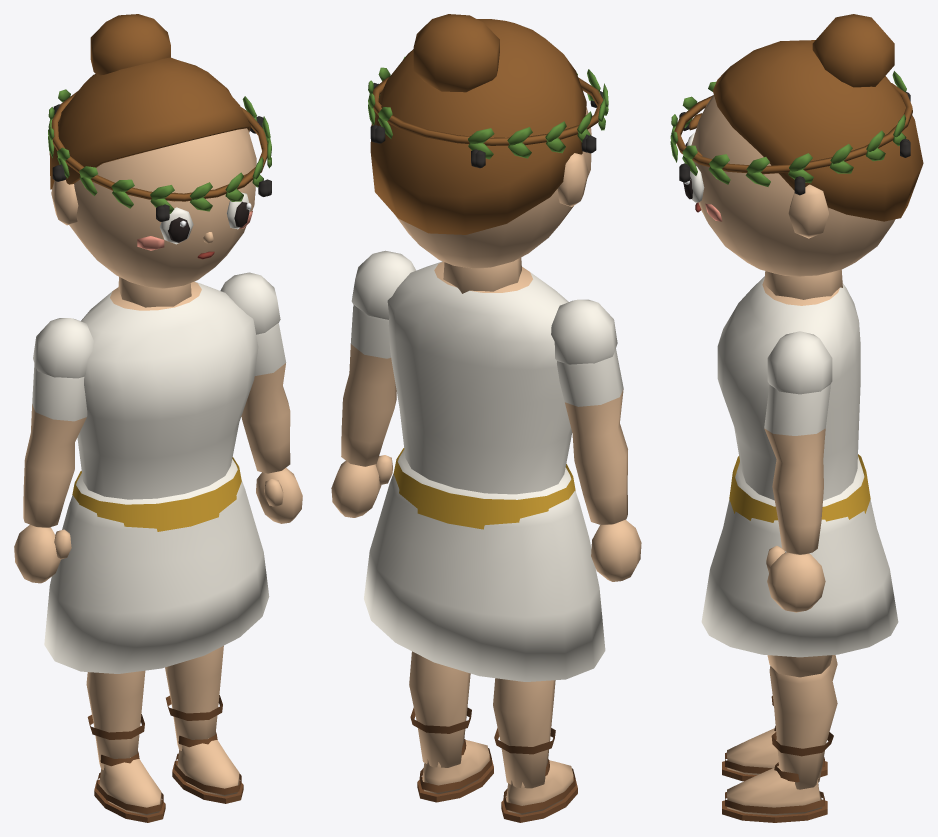
File: olympionikin.glb
3 renders of one model, left to right at view 1: azimuth 30°, elevation 25°; view 2: azimuth 150°, elevation 25°; view 3: azimuth 270°, elevation 25°, orthographic. The views are drawn at different scales.
Parts seen in each view (by area): view 1: rumpf, huefte, kopf, haare, armL, armR, knieL, knieR, kopfschmuck, augeL, augeR; view 2: rumpf, huefte, haare, armL, armR, knieL, kopf, knieR, kopfschmuck; view 3: haare, huefte, rumpf, kopf, armR, knieR, kopfschmuck, knieL, beinR, augeR.
Boxes of the visible parts, box(x1,y1,x2,y2) form: rumpf: box(72, 281, 258, 531); huefte: box(44, 459, 269, 673); kopf: box(51, 128, 256, 307); haare: box(49, 14, 250, 189); armL: box(14, 318, 93, 583); armR: box(220, 272, 302, 523); knieL: box(86, 670, 165, 822); knieR: box(165, 646, 243, 803); kopfschmuck: box(48, 89, 271, 221); augeL: box(159, 207, 193, 244); augeR: box(226, 192, 251, 229); rumpf: box(387, 261, 575, 529); huefte: box(364, 450, 605, 681); haare: box(370, 14, 586, 234); armL: box(551, 299, 641, 581); armR: box(331, 250, 415, 517); knieL: box(493, 678, 577, 822); kopf: box(395, 106, 591, 293); knieR: box(409, 651, 493, 802); kopfschmuck: box(368, 56, 608, 168); haare: box(713, 14, 923, 221); huefte: box(701, 456, 898, 657); rumpf: box(717, 276, 870, 522); kopf: box(691, 95, 895, 299); armR: box(764, 331, 832, 612); knieR: box(722, 666, 837, 822); kopfschmuck: box(670, 71, 912, 195); knieL: box(722, 655, 837, 781); beinR: box(767, 655, 832, 677); augeR: box(683, 166, 704, 202).
Size of the model in its own units: 0.9329 by 2.38 by 0.7069.
